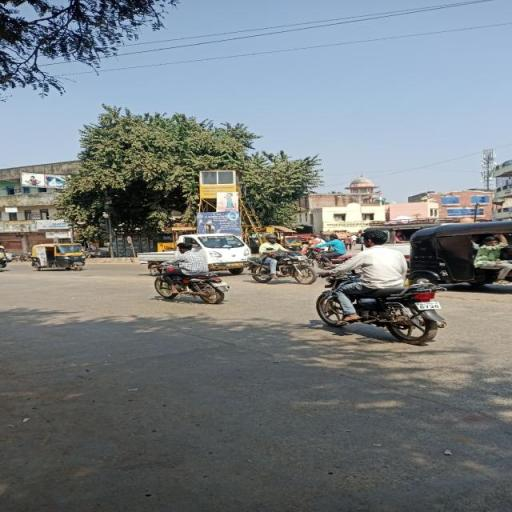bike: (313, 227, 450, 343)
withouthelmet: (364, 231, 386, 246)
